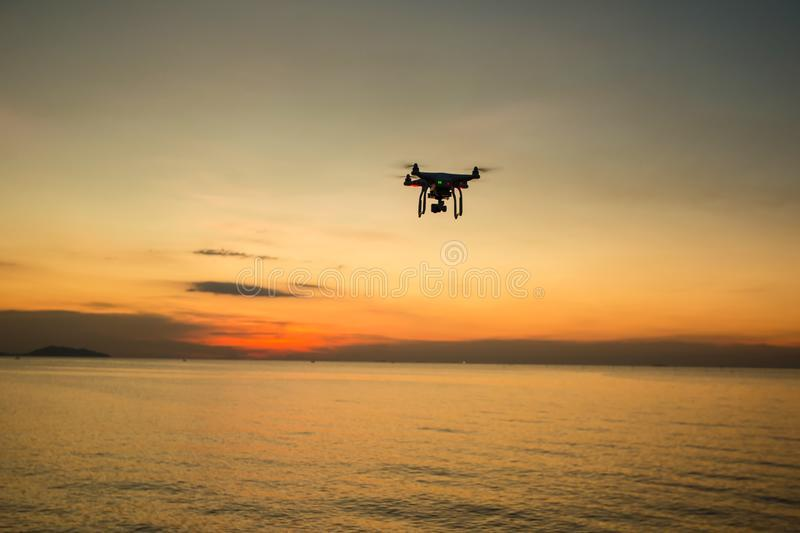drone_other: (387, 156, 501, 219)
